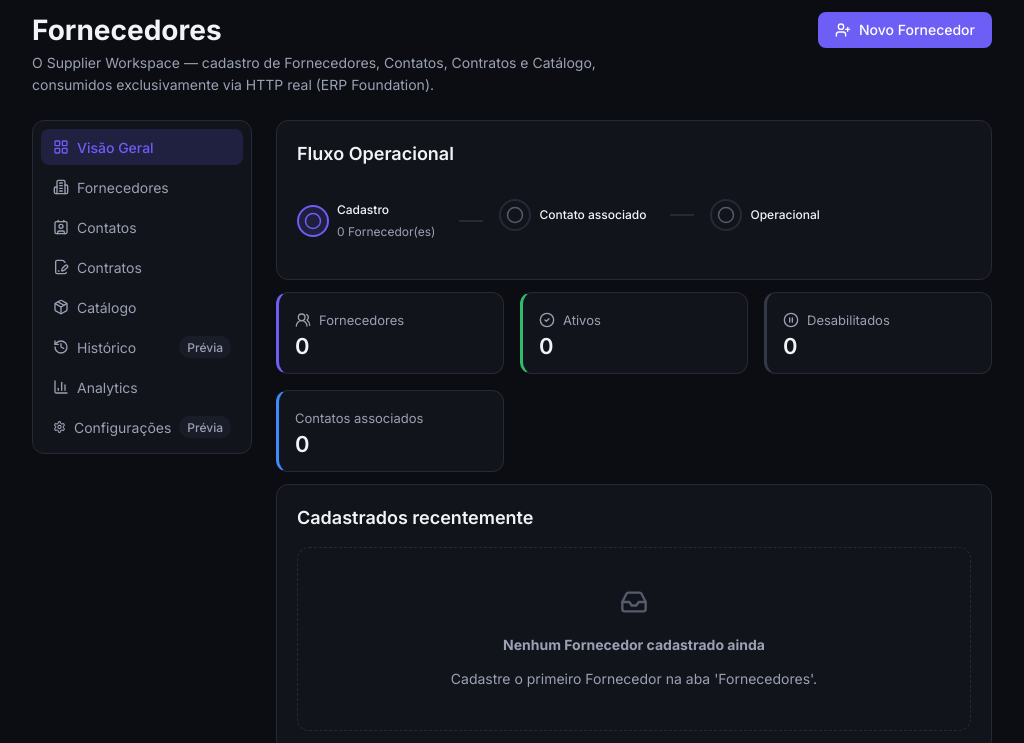
Test: SupplierPage — Supplier Workspace por seções (IMP-205) › Contratos mostra o NotConnectedNotice de listagem e o Contrato criado nesta sessão
Expected: the button "Visão Geral" is shown, [41,129,243,165]
Click the button "Novo Fornecedor" at (905, 30), box [818,12,992,48]
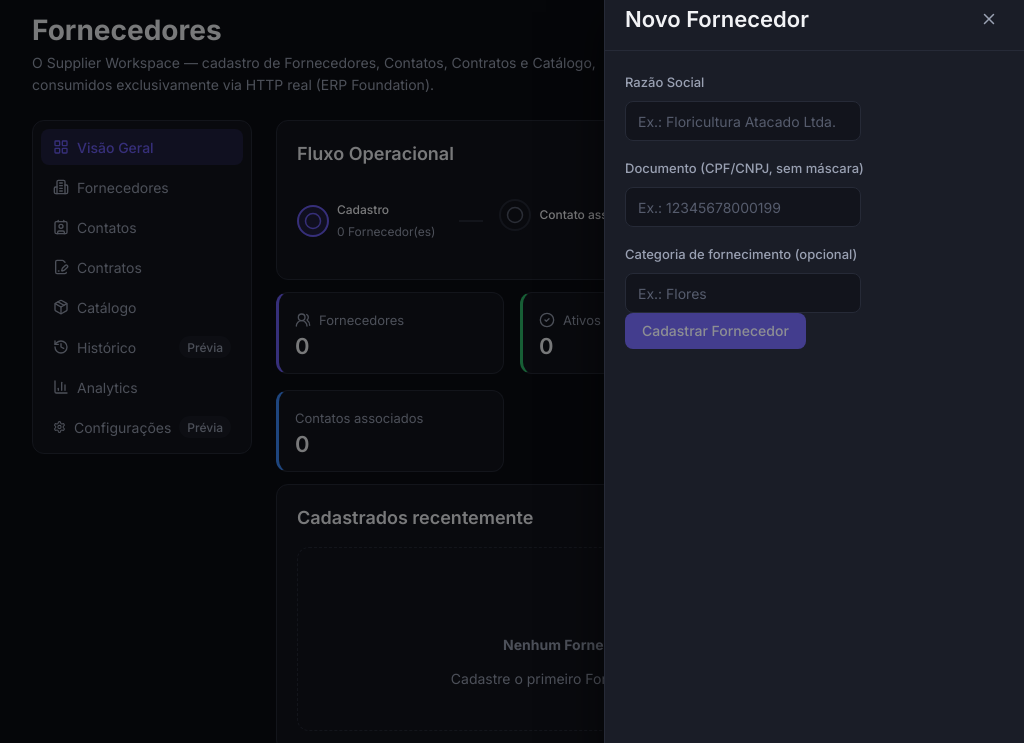
Type "Floricultura Atacado Ltda." into the field labelled "Razão Social" at (743, 121), box [625,101,861,141]
Type "12345678000199" into the field labelled "Documento (CPF/CNPJ, sem máscara)" at (743, 207), box [625,187,861,227]
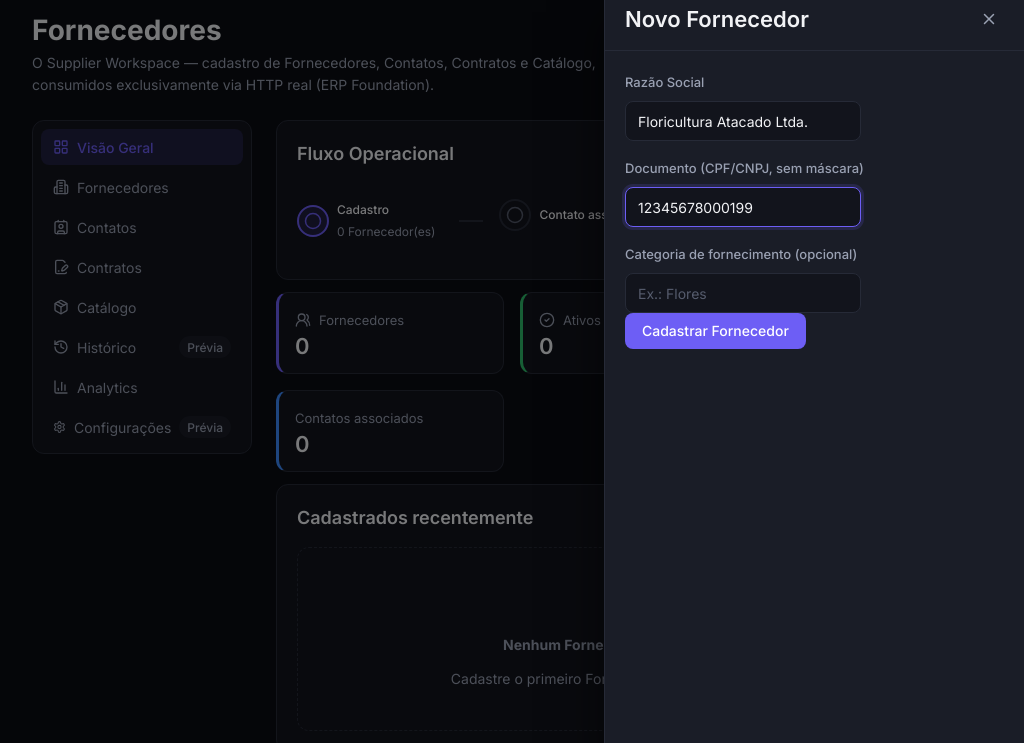
Click the button "Cadastrar Fornecedor" at (715, 331), box [625,313,806,349]
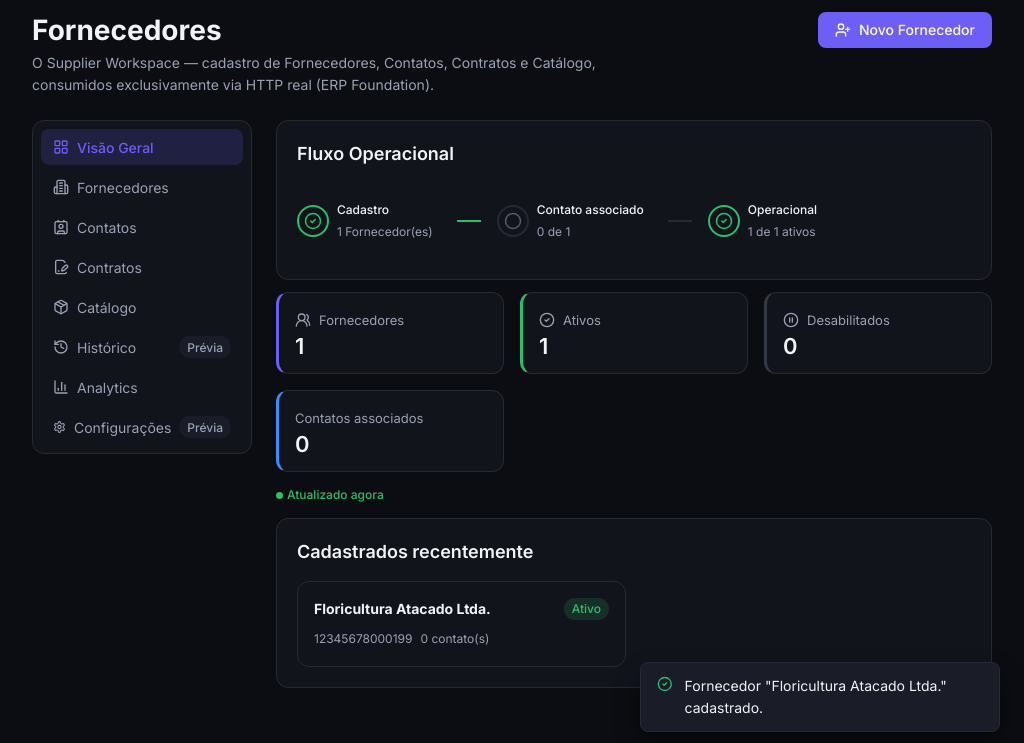
Expected: the text "Floricultura Atacado Ltda." is shown, [314,598,491,620]
Click the button "Contratos" at (142, 267), box [41,249,243,285]
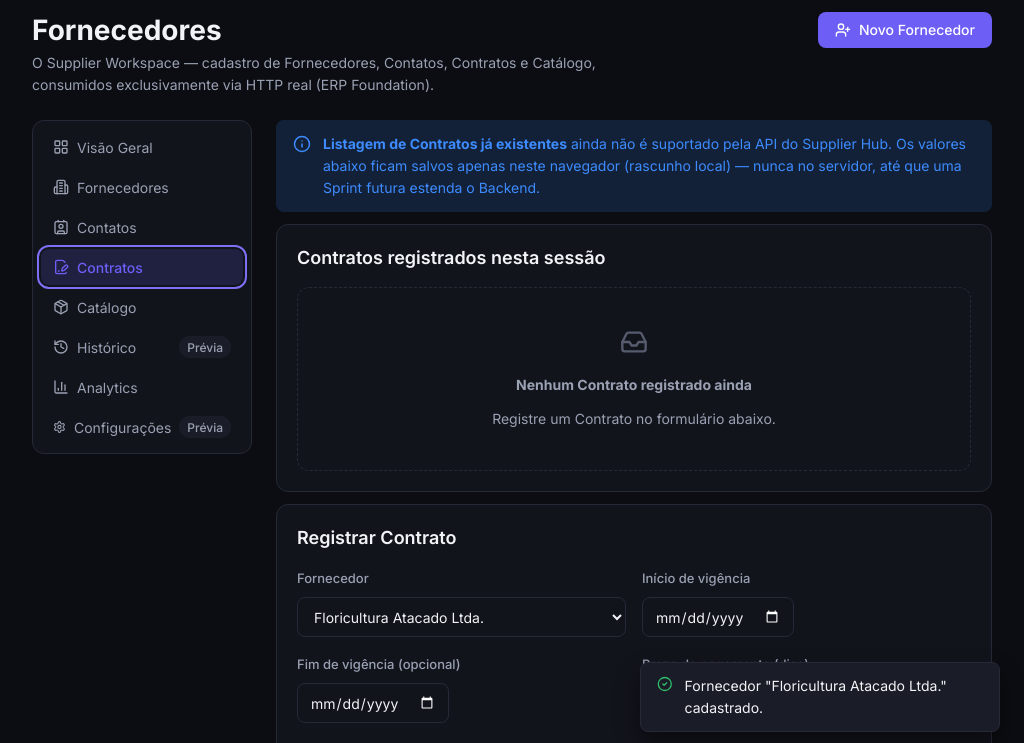
Expected: the text "Listagem de Contratos já existentes" is shown, [323,135,567,152]
Type "2026-01-01" into the date field labelled "Início de vigência" at (718, 617), box [642,597,794,637]
(page scrolled)
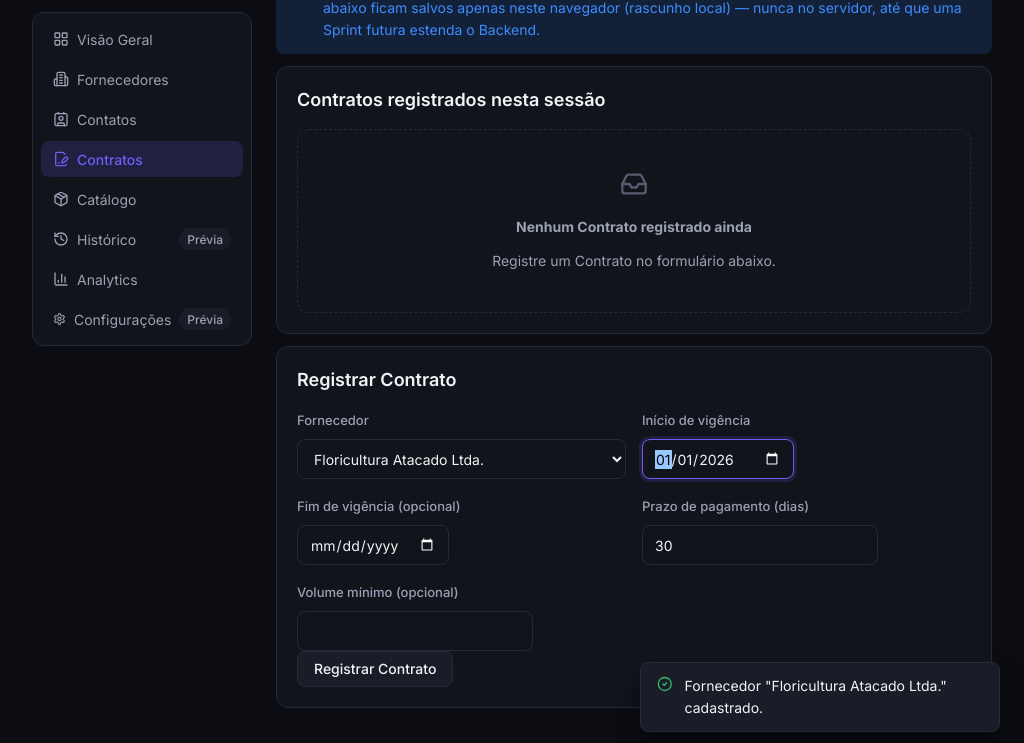
Click the button "Registrar Contrato" at (375, 669), box [297,651,453,687]
(page scrolled)
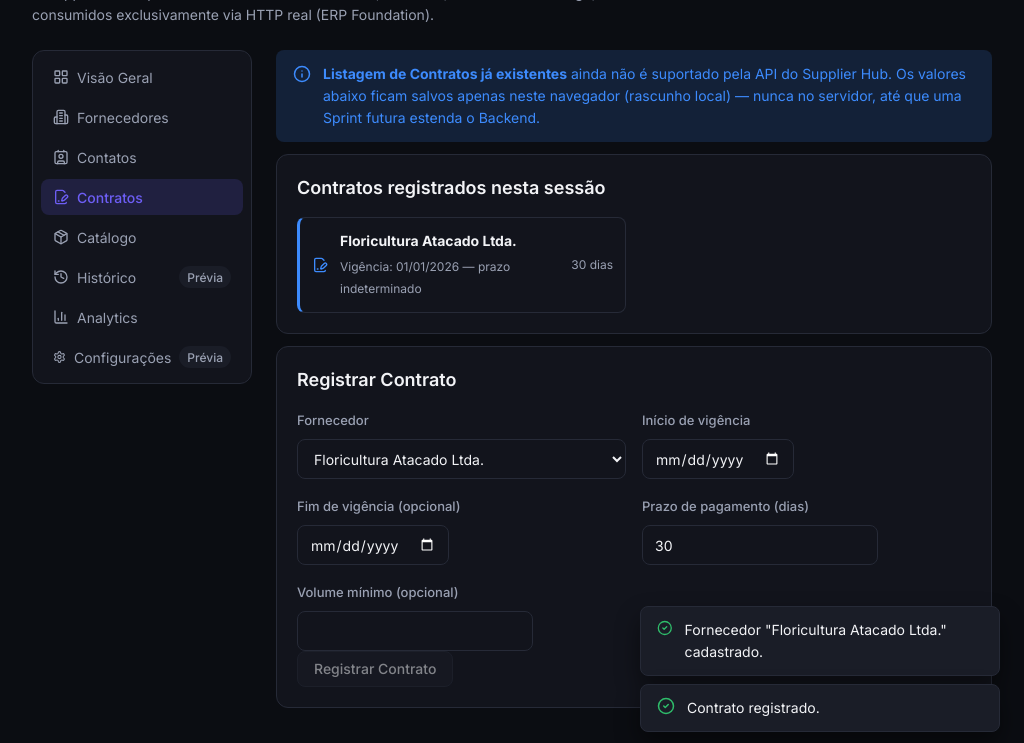
Expected: the text "Floricultura Atacado Ltda." is shown, [340,232,517,249]
